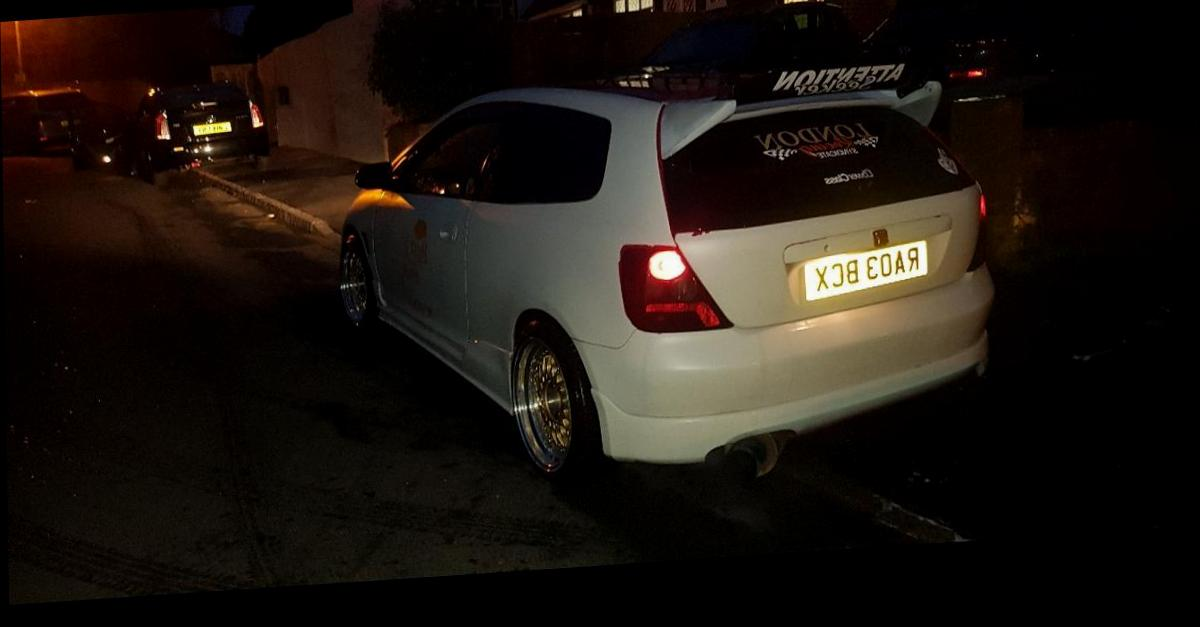License_Plate: (800, 237, 930, 306)
